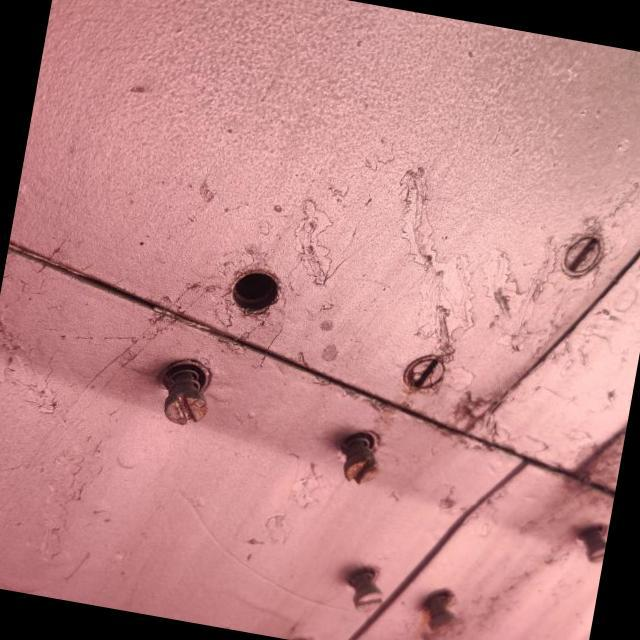Fastener Damage: (178, 224, 328, 364)
